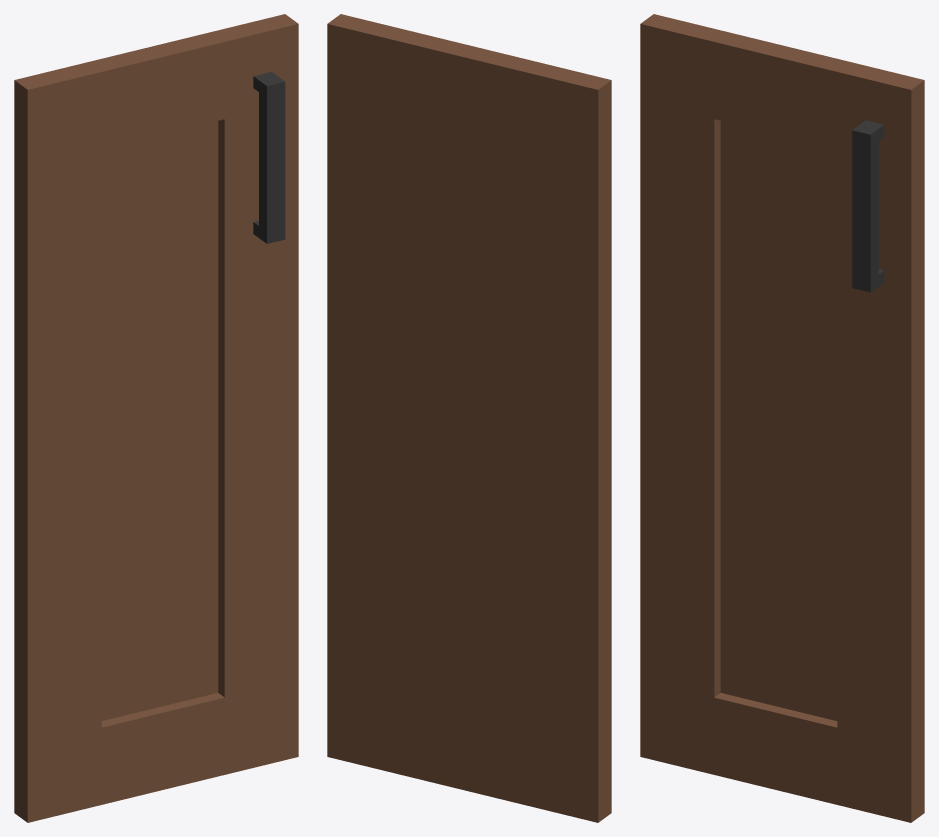
File: Door2_C2_04.fbx
3 renders of one model, left to right at view 1: azimuth 30°, elevation 25°; view 2: azimuth 150°, elevation 25°; view 3: azimuth 330°, elevation 25°, orthographic.
Visible parts, largest first — view 1: Door2_C2_04; view 2: Door2_C2_04; view 3: Door2_C2_04.
Part boxes in pixels (x1,y1,x2,y2): Door2_C2_04: (14,14,298,822); Door2_C2_04: (327,14,611,822); Door2_C2_04: (640,14,924,822).
Bounding box in the file's own units: 29 × 75 × 5.03.
